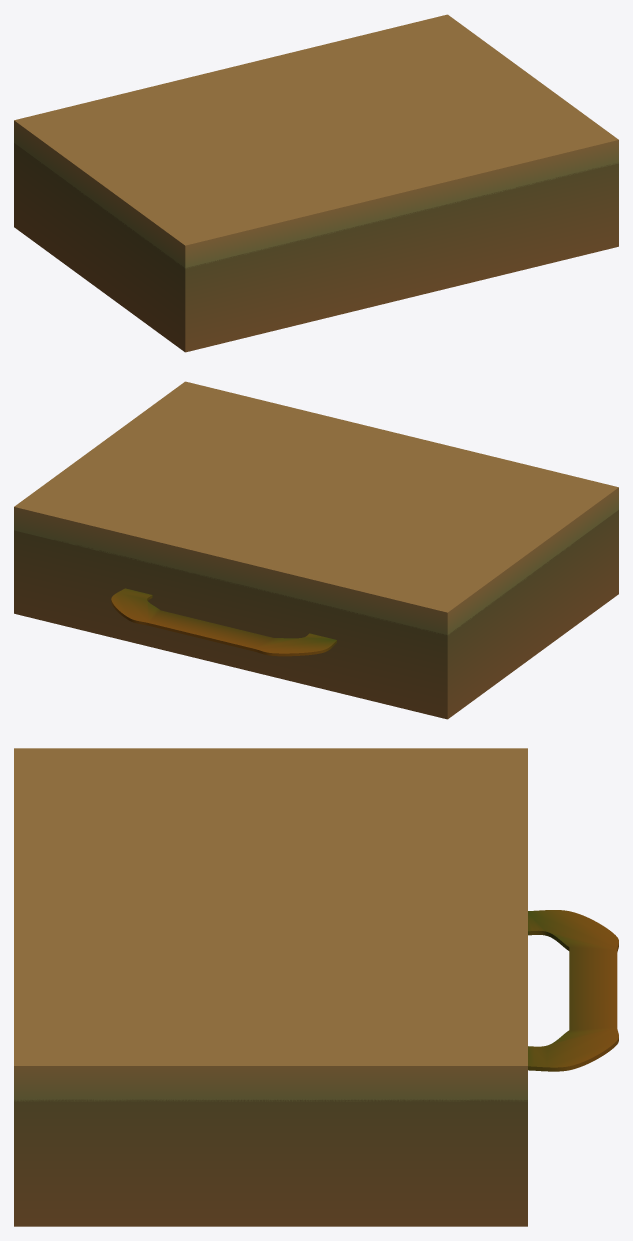
The picture shows the model from 3 angles, top to bottom: view 1: azimuth 30°, elevation 25°; view 2: azimuth 150°, elevation 25°; view 3: azimuth 270°, elevation 25°; orthographic projection. The views are drawn at different scales.
Visible parts, largest first — view 1: lid, body; view 2: lid, body, strap; view 3: lid, body, strap.
Part boxes in pixels (x1,y1,x2,y2): lid: [14, 14, 618, 268]; body: [14, 143, 618, 352]; lid: [14, 381, 618, 635]; body: [14, 510, 618, 719]; strap: [111, 588, 336, 656]; lid: [14, 748, 527, 1101]; body: [14, 1099, 527, 1226]; strap: [528, 910, 618, 1071].
Size of the model in its own units: 0.5 by 0.1177 by 0.4024.
